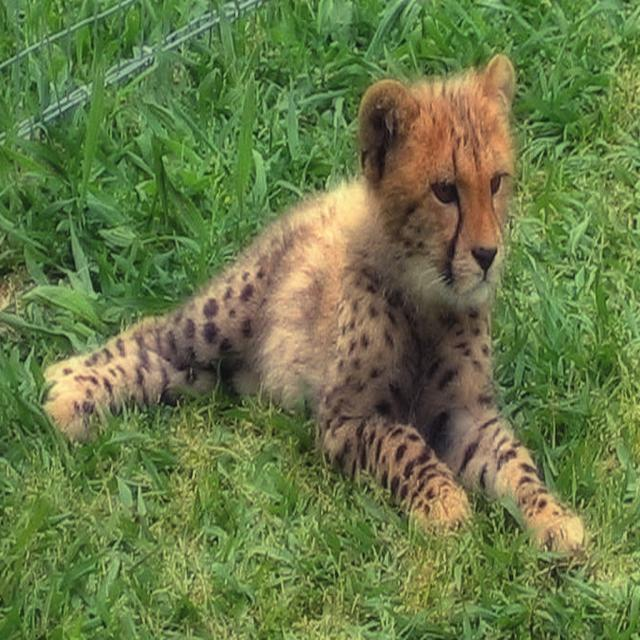Cheetah: (42, 52, 590, 563)
